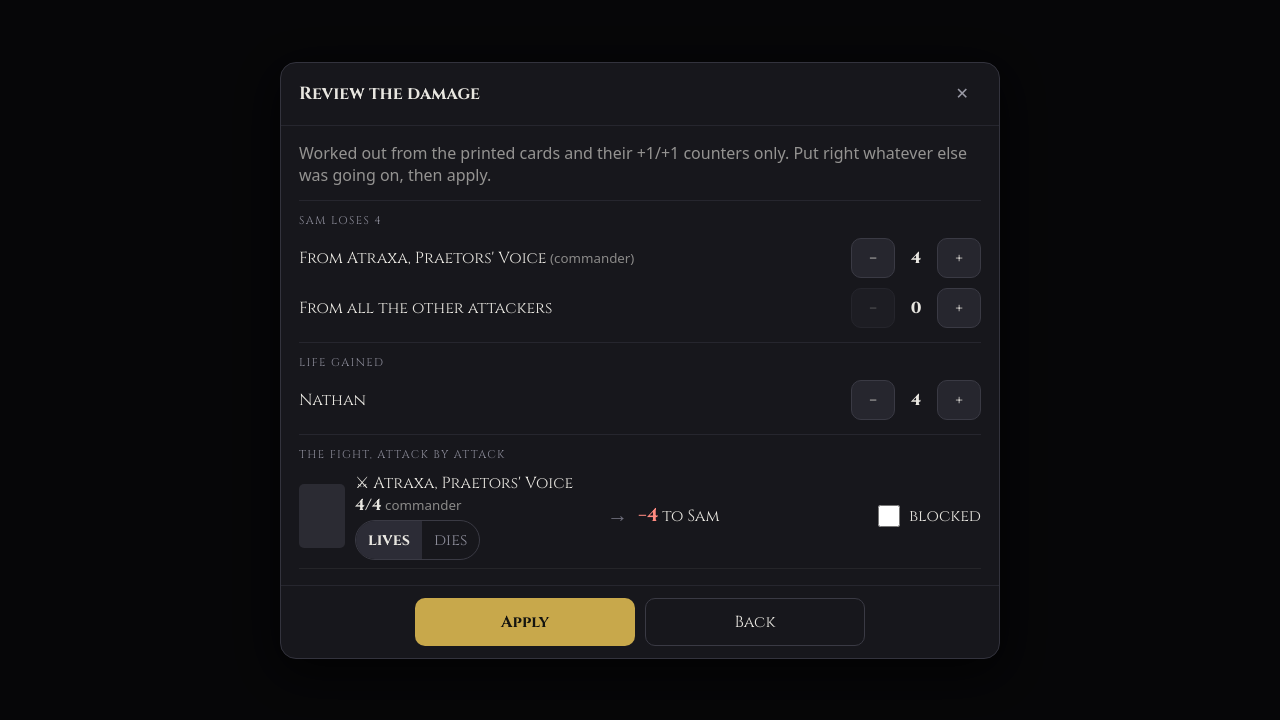
Test case: what a change does › the second tick is only there while she dies
This screenshot has width=1280, height=720.
Click the checkbox named "Nathan's Atraxa, Praetors' Voice dies" at (418, 540), box [355, 520, 480, 560]
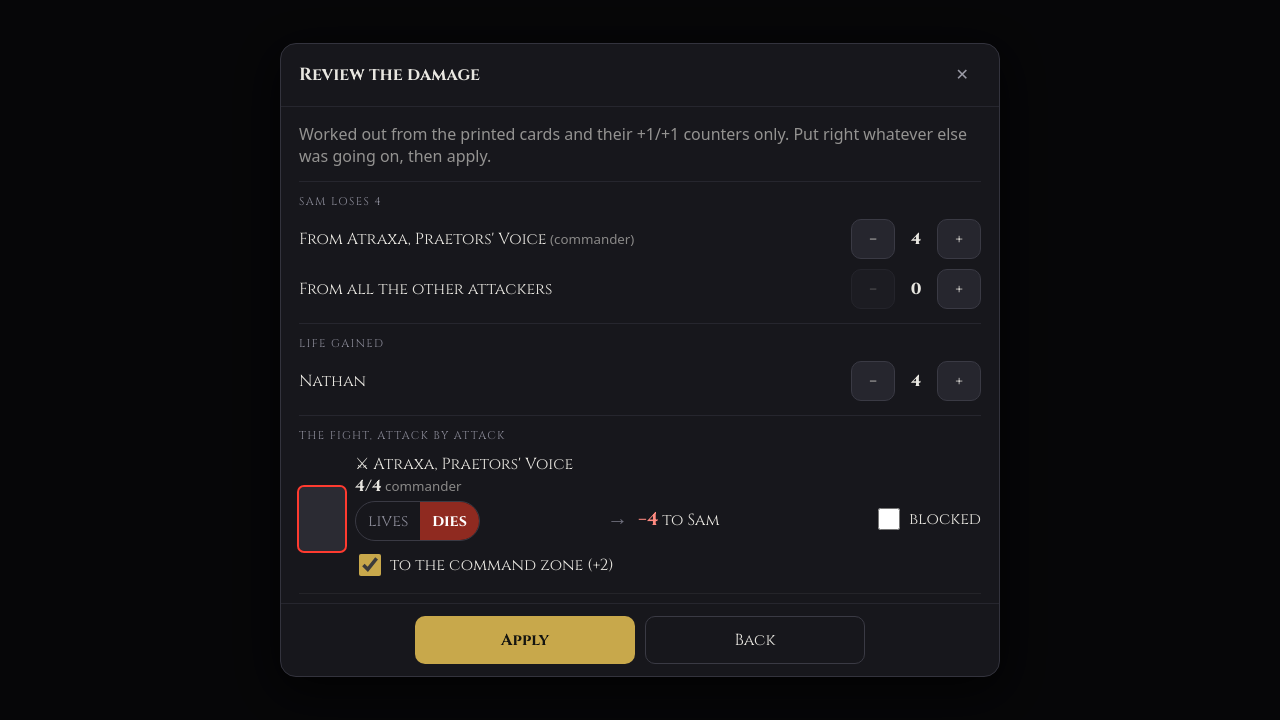
Check: the checkbox named "goes to the command zone" is checked, box [359, 554, 381, 576]
